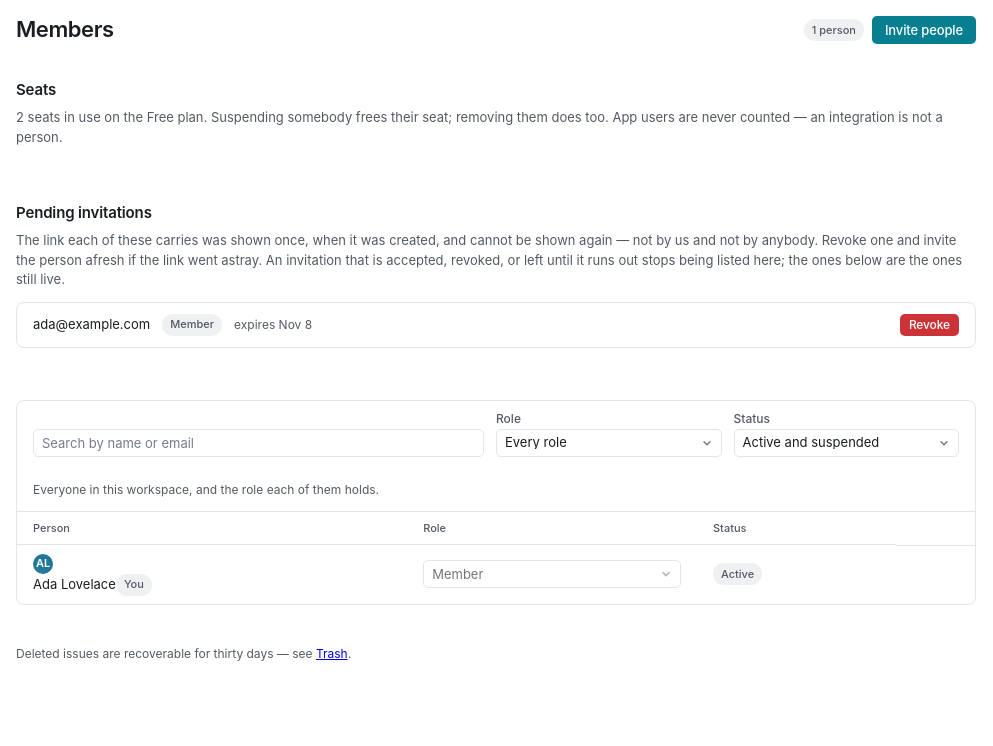
Test case: MemberSettings · revoking › tells the truth when somebody accepted it first, rather than repeating "not found"
What coordinates should you click on to do the following:
click the button with aria-label "Revoke the invitation to ada@example.com"
I would click on:
 (929, 324)
Its box is top-left (900, 314), bottom-right (959, 336).
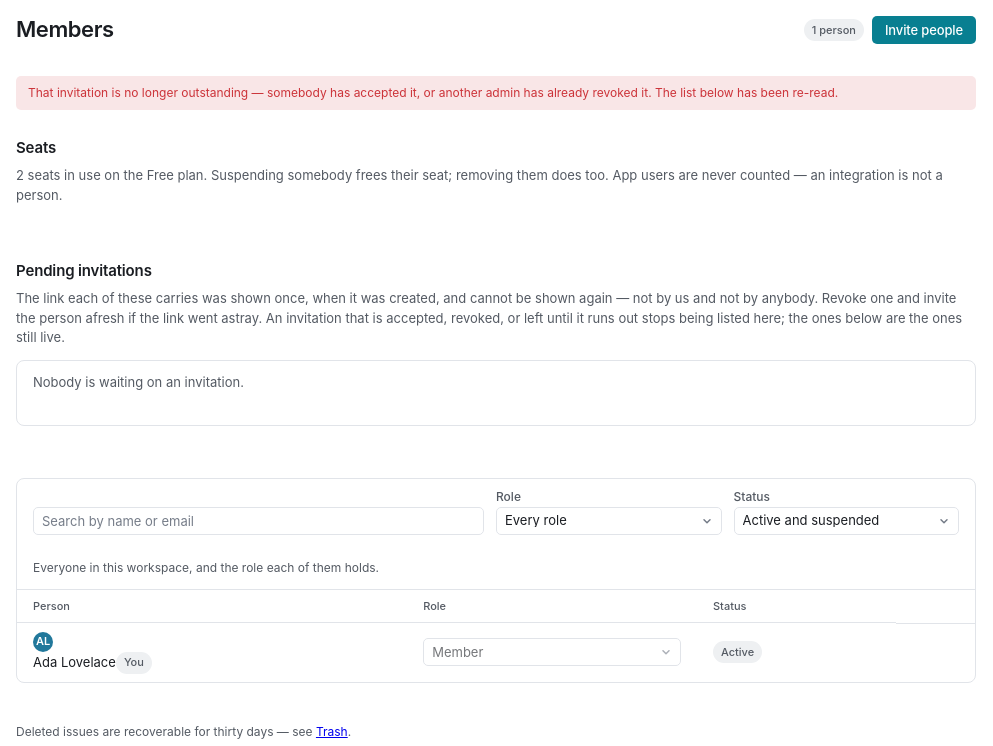
Check: the message shows "somebody has accepted it, or another admin has already", box top-left (28, 85), bottom-right (838, 100)
